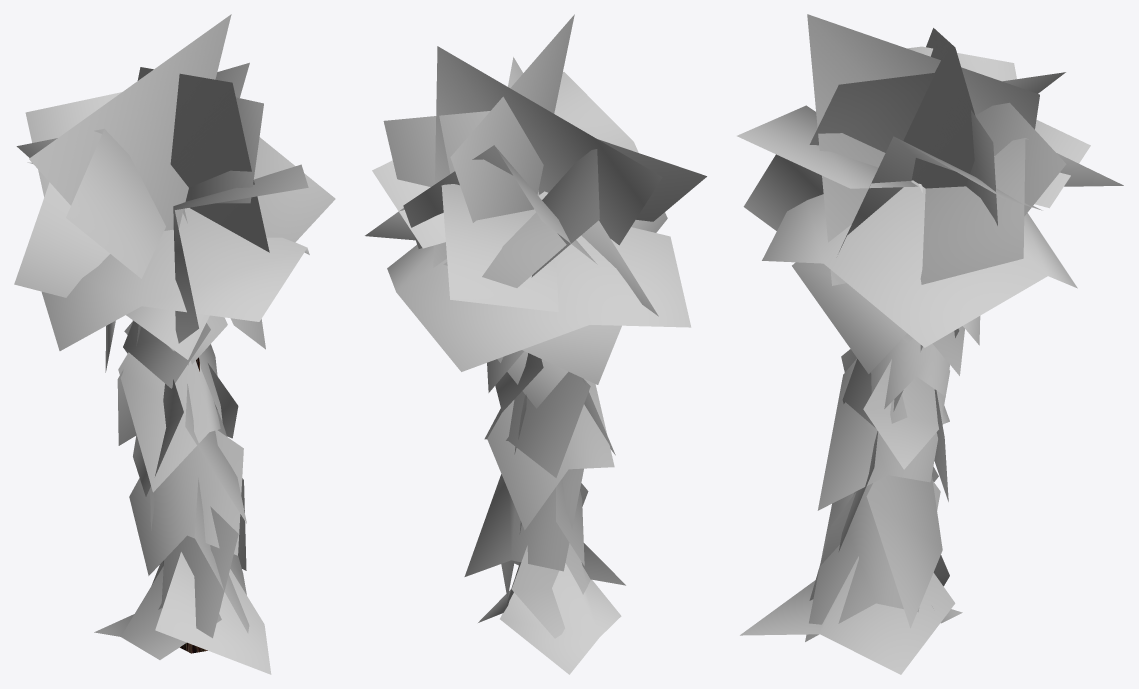
Rendered from MEP_Pandani.FBX.
3 renders of one model, left to right at view 1: azimuth 30°, elevation 25°; view 2: azimuth 150°, elevation 25°; view 3: azimuth 270°, elevation 25°, orthographic. The views are drawn at different scales.
Visible parts, largest first — view 1: MEP_Pandani_2b_184; view 2: MEP_Pandani_2b_184; view 3: MEP_Pandani_2b_184.
Part boxes in pixels (bbox=[...]): MEP_Pandani_2b_184: bbox=[14, 14, 335, 674]; MEP_Pandani_2b_184: bbox=[365, 14, 706, 674]; MEP_Pandani_2b_184: bbox=[737, 14, 1123, 674].
Size of the model in its own units: 71.01 by 141 by 78.08.
